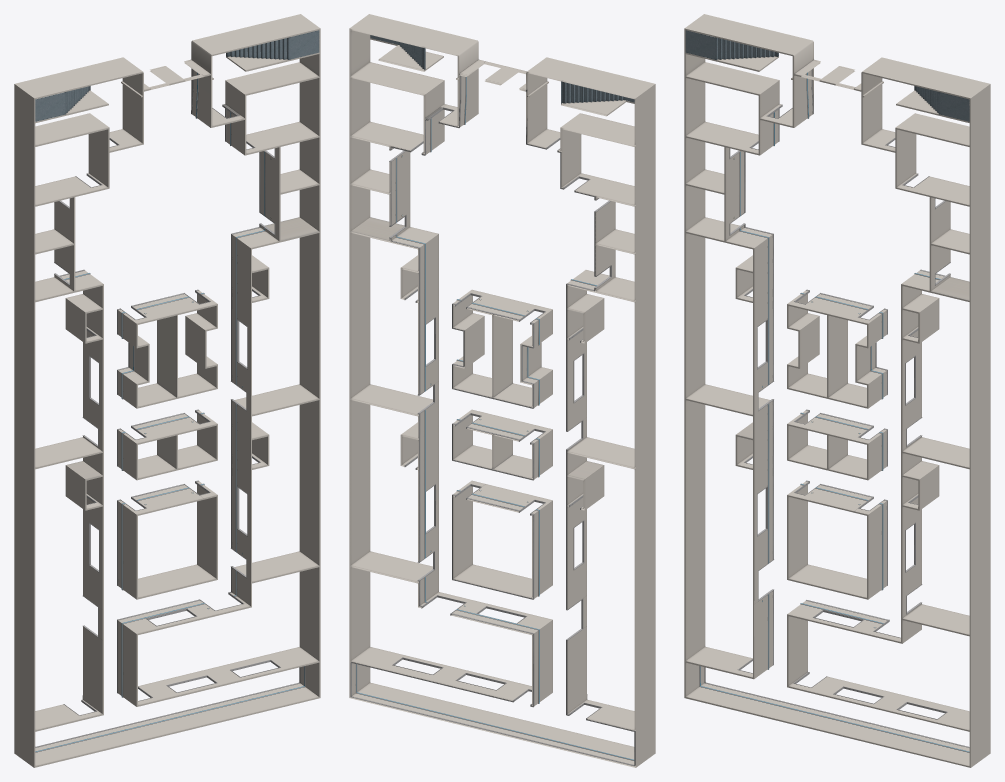
Rendered from aws_robomaker_hospital_floor_02_walls_visual.dae.
3 renders of one model, left to right at view 1: azimuth 30°, elevation 25°; view 2: azimuth 150°, elevation 25°; view 3: azimuth 330°, elevation 25°, orthographic.
Visible parts, largest first — view 1: aws_robomaker_hospital_floor_02_walls_visual, aws_robomaker_hospital_floor_02_stairs_visual, aws_robomaker_hospital_floor_02_handrail_visual, aws_robomaker_hospital_floor_02_bumprail_visual, aws_robomaker_hospital_floor_02_windows_visual, aws_robomaker_hospital_floor_02_doorframes_small_visual, aws_robomaker_hospital_floor_02_doorframes_big_visual; view 2: aws_robomaker_hospital_floor_02_walls_visual, aws_robomaker_hospital_floor_02_bumprail_visual, aws_robomaker_hospital_floor_02_handrail_visual, aws_robomaker_hospital_floor_02_windows_visual, aws_robomaker_hospital_floor_02_stairs_visual, aws_robomaker_hospital_floor_02_doorframes_small_visual, aws_robomaker_hospital_floor_02_doorframes_big_visual; view 3: aws_robomaker_hospital_floor_02_walls_visual, aws_robomaker_hospital_floor_02_stairs_visual, aws_robomaker_hospital_floor_02_handrail_visual, aws_robomaker_hospital_floor_02_bumprail_visual, aws_robomaker_hospital_floor_02_windows_visual, aws_robomaker_hospital_floor_02_doorframes_small_visual, aws_robomaker_hospital_floor_02_doorframes_big_visual.
Part boxes in pixels (x1,y1,x2,y2): aws_robomaker_hospital_floor_02_walls_visual: (14, 14, 320, 767); aws_robomaker_hospital_floor_02_stairs_visual: (35, 30, 319, 121); aws_robomaker_hospital_floor_02_handrail_visual: (35, 72, 305, 752); aws_robomaker_hospital_floor_02_bumprail_visual: (35, 69, 300, 747); aws_robomaker_hospital_floor_02_windows_visual: (89, 319, 280, 692); aws_robomaker_hospital_floor_02_doorframes_small_visual: (54, 104, 275, 510); aws_robomaker_hospital_floor_02_doorframes_big_visual: (64, 381, 246, 715); aws_robomaker_hospital_floor_02_walls_visual: (349, 14, 655, 767); aws_robomaker_hospital_floor_02_bumprail_visual: (350, 75, 635, 766); aws_robomaker_hospital_floor_02_handrail_visual: (356, 77, 634, 760); aws_robomaker_hospital_floor_02_windows_visual: (392, 317, 584, 690); aws_robomaker_hospital_floor_02_stairs_visual: (370, 35, 634, 103); aws_robomaker_hospital_floor_02_doorframes_small_visual: (389, 107, 611, 515); aws_robomaker_hospital_floor_02_doorframes_big_visual: (417, 384, 601, 720); aws_robomaker_hospital_floor_02_walls_visual: (684, 14, 990, 767); aws_robomaker_hospital_floor_02_stairs_visual: (685, 30, 969, 121); aws_robomaker_hospital_floor_02_handrail_visual: (699, 72, 969, 752); aws_robomaker_hospital_floor_02_bumprail_visual: (704, 69, 969, 747); aws_robomaker_hospital_floor_02_windows_visual: (757, 319, 947, 719); aws_robomaker_hospital_floor_02_doorframes_small_visual: (729, 104, 950, 510); aws_robomaker_hospital_floor_02_doorframes_big_visual: (738, 381, 922, 687).
Bounding box in the file's own units: 2512 × 5612 × 300.
Materials: 8 (8 with a texture image).
